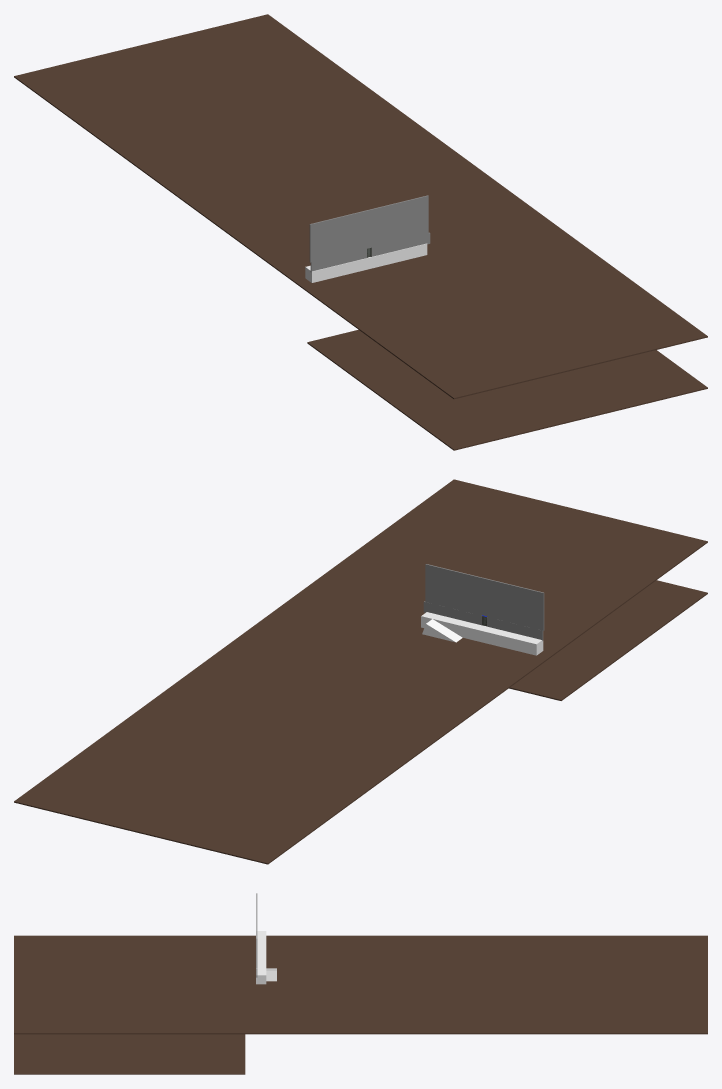
File: paredaltura.fbx
3 views of the same model, one above another, from view 1: azimuth 30°, elevation 25°; view 2: azimuth 150°, elevation 25°; view 3: azimuth 270°, elevation 25° (orthographic). The views are drawn at different scales.
Parts seen in each view (by area): view 1: _____Ground__2_, _____Ground__1_, _____Ground, _____Ground__3_, Wall5__7_, Cube__8_; view 2: _____Ground__1_, _____Ground, _____Ground__2_, _____Ground__3_, Wall5__7_, Cube__8_, Wall5__5_; view 3: _____Ground__2_, _____Ground__1_, _____Ground, _____Ground__3_, Cube__8_.
Boxes of the visible parts, bbox=[...] form: _____Ground__2_: bbox=[307, 229, 707, 399]; _____Ground__1_: bbox=[14, 14, 414, 184]; _____Ground: bbox=[160, 121, 560, 291]; _____Ground__3_: bbox=[307, 329, 707, 450]; Wall5__7_: bbox=[309, 195, 428, 262]; Cube__8_: bbox=[305, 243, 427, 282]; _____Ground__1_: bbox=[14, 694, 414, 864]; _____Ground: bbox=[161, 587, 561, 756]; _____Ground__2_: bbox=[307, 479, 707, 649]; _____Ground__3_: bbox=[509, 580, 707, 700]; Wall5__7_: bbox=[425, 564, 544, 630]; Cube__8_: bbox=[421, 612, 543, 655]; Wall5__5_: bbox=[423, 601, 482, 625]; _____Ground__2_: bbox=[14, 935, 245, 1034]; _____Ground__1_: bbox=[476, 935, 707, 1034]; _____Ground: bbox=[245, 935, 476, 1034]; _____Ground__3_: bbox=[14, 1034, 245, 1074]; Cube__8_: bbox=[256, 931, 266, 984].
Size of the model in its own units: 22000 by 9206 by 66000.
5 materials, 1 textured.
